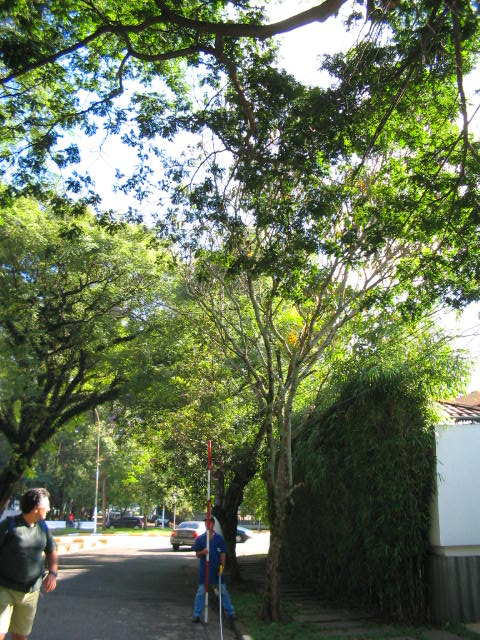stick: (199, 437, 214, 623)
